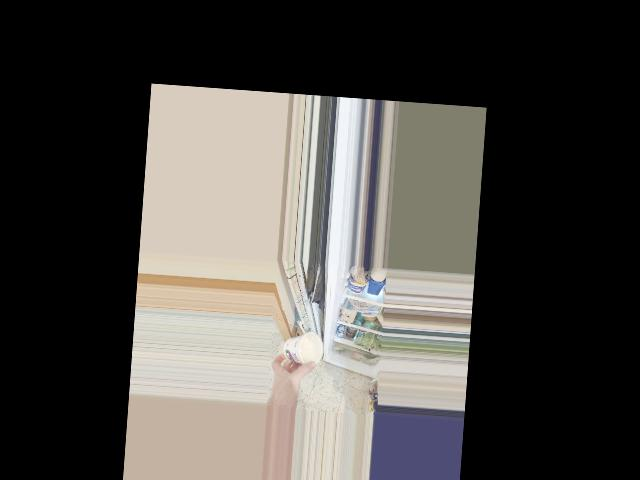cotage: (284, 332, 327, 367)
